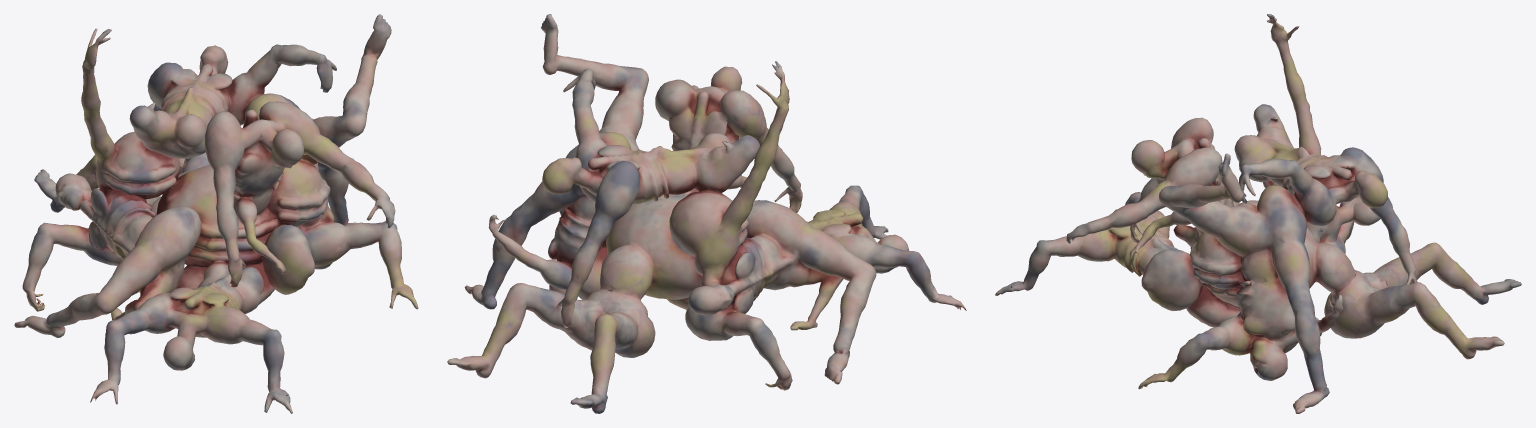
The model's file is fleshbeast.glb.
3 renders of one model, left to right at view 1: azimuth 30°, elevation 25°; view 2: azimuth 150°, elevation 25°; view 3: azimuth 270°, elevation 25°, orthographic. The views are drawn at different scales.
Visible parts, largest first — view 1: FleshbeastLow; view 2: FleshbeastLow; view 3: FleshbeastLow.
Boxes of the visible parts, x1=… form: FleshbeastLow: x1=14, y1=14, x2=418, y2=413; FleshbeastLow: x1=447, y1=14, x2=966, y2=413; FleshbeastLow: x1=995, y1=14, x2=1521, y2=413.
Bounding box in the file's own units: 2.5 × 1.77 × 3.07.
Materials: 1 (1 with a texture image).
